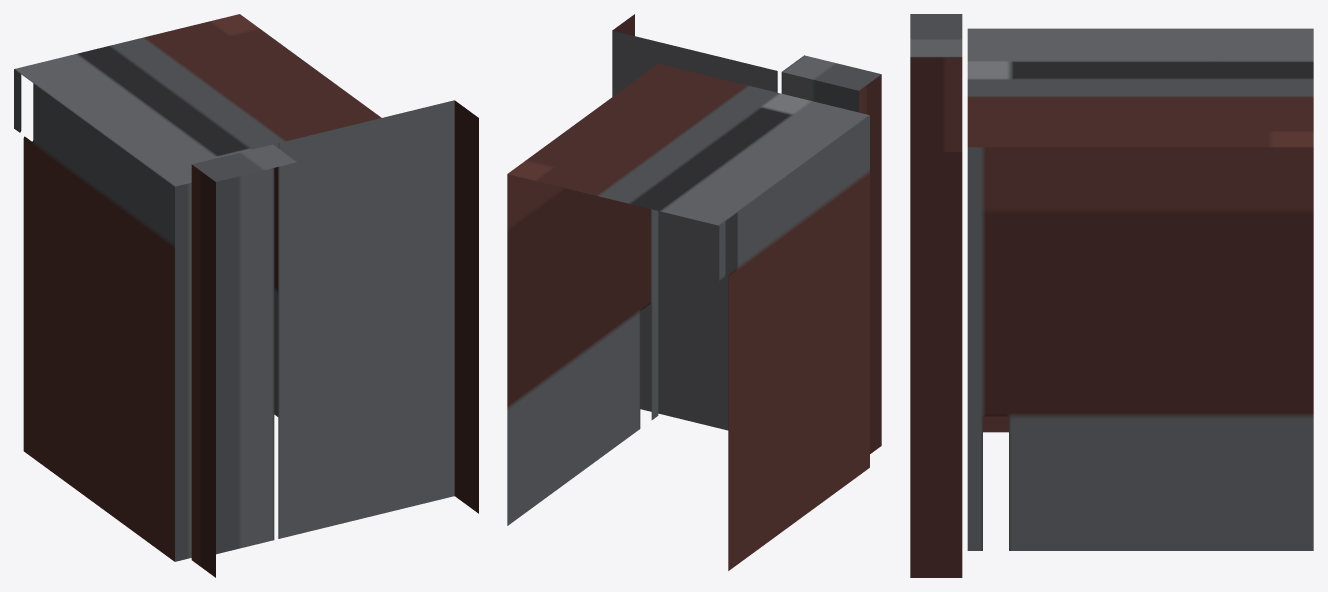
The model's file is section-0.obj.
3 renders of one model, left to right at view 1: azimuth 30°, elevation 25°; view 2: azimuth 150°, elevation 25°; view 3: azimuth 270°, elevation 25°, orthographic. The views are drawn at different scales.
Size of the model in its own units: 0.7569 by 1.03 by 0.8862.
